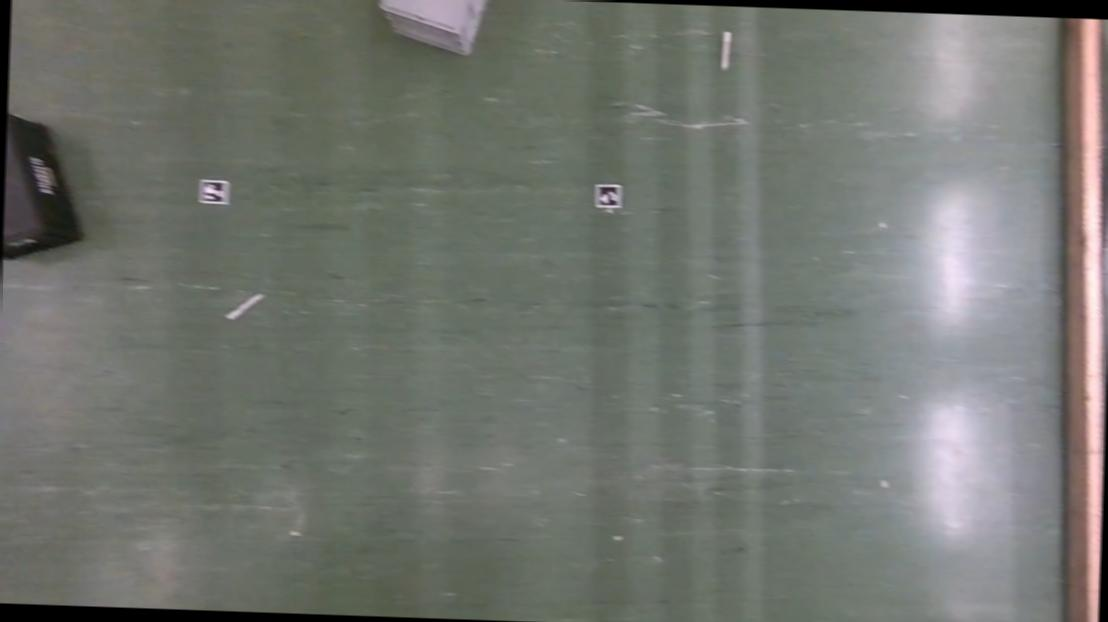probes: (226, 292, 262, 322), (719, 32, 731, 72)
rako: (1, 110, 84, 264), (376, 0, 488, 56)
